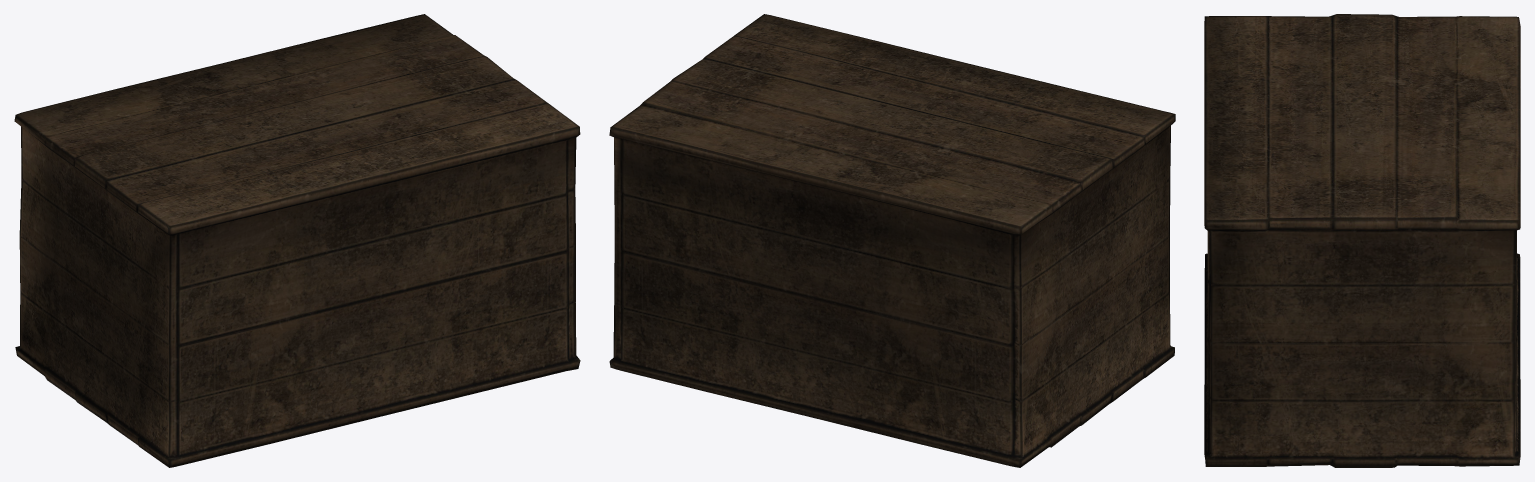
3 renders of one model, left to right at view 1: azimuth 30°, elevation 25°; view 2: azimuth 150°, elevation 25°; view 3: azimuth 270°, elevation 25°, orthographic.
Parts seen in each view (by area): view 1: Box_A_001; view 2: Box_A_001; view 3: Box_A_001.
Boxes of the visible parts, x1=… form: Box_A_001: x1=14, y1=14, x2=580, y2=467; Box_A_001: x1=609, y1=14, x2=1175, y2=467; Box_A_001: x1=1204, y1=14, x2=1520, y2=467.
Size of the model in its own units: 94.88 by 54.1 by 61.63.
Materials: 1 (1 with a texture image).
